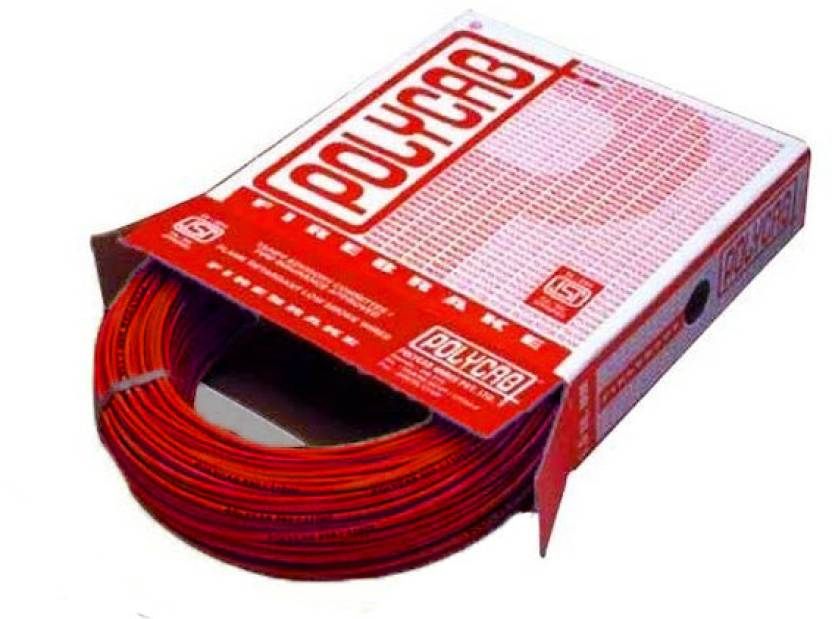Nonrec_Tangler: (64, 260, 581, 581)
